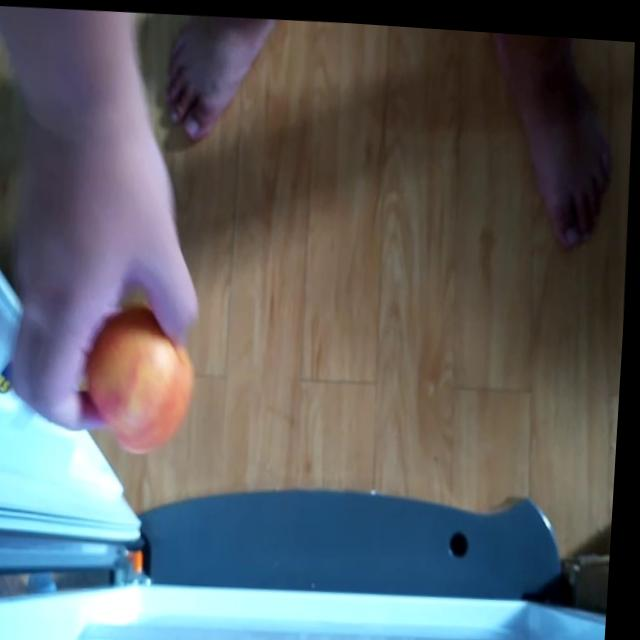apple: (85, 297, 203, 453)
